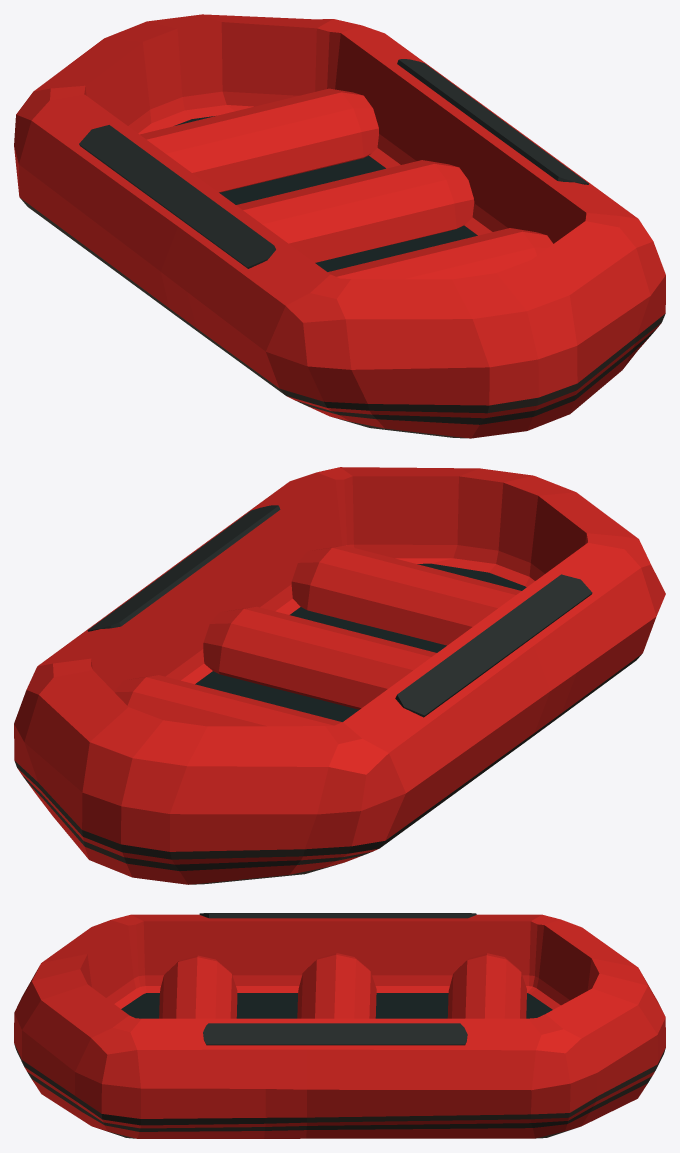
Rendered from BoteSalvaVidasblend.fbx.
3 renders of one model, top to bottom at view 1: azimuth 30°, elevation 25°; view 2: azimuth 150°, elevation 25°; view 3: azimuth 270°, elevation 25°, orthographic. The views are drawn at different scales.
Visible parts, largest first — view 1: Cube; view 2: Cube; view 3: Cube.
Boxes of the visible parts, x1,y1,x2,y2 form: Cube: (14, 14, 665, 438); Cube: (14, 467, 665, 884); Cube: (14, 913, 665, 1138).
Size of the model in its own units: 353 by 134 by 652.
